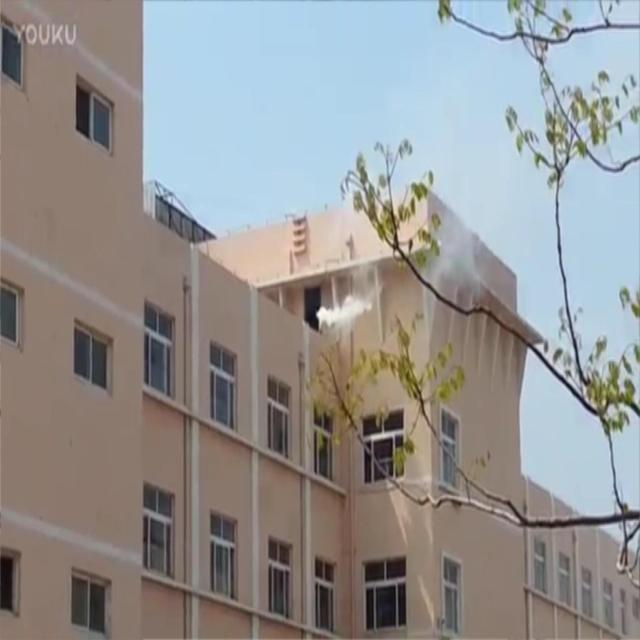Smoke: (422, 192, 487, 310), (316, 271, 383, 341)
